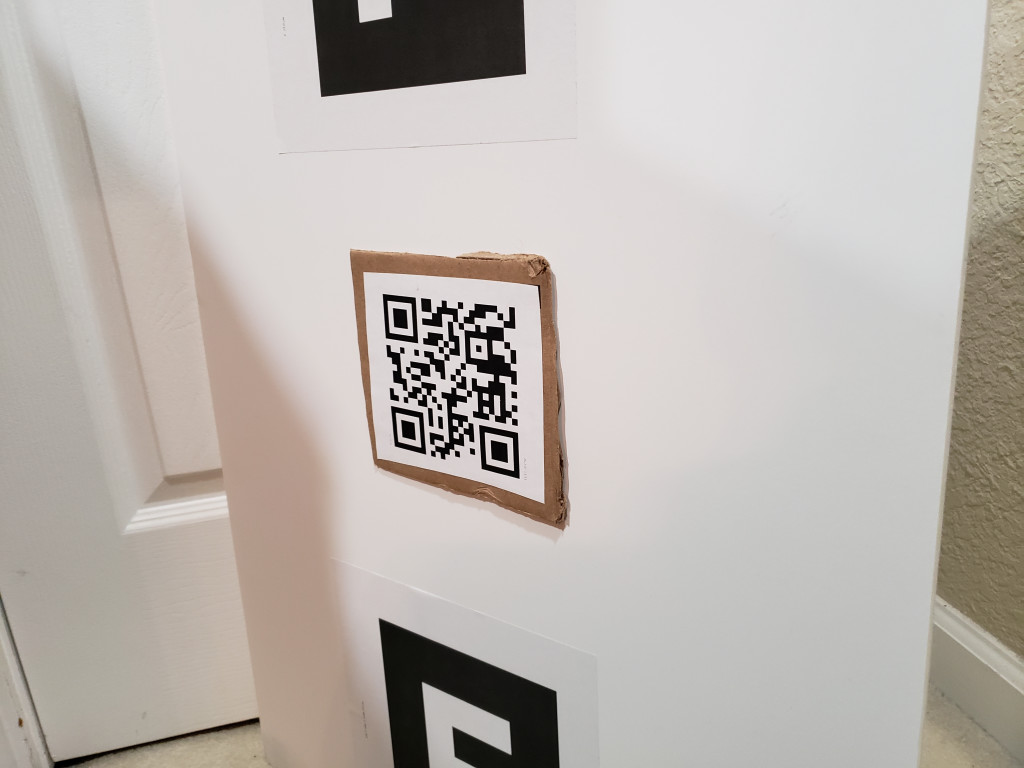QR_CODE: (374, 281, 535, 490)
